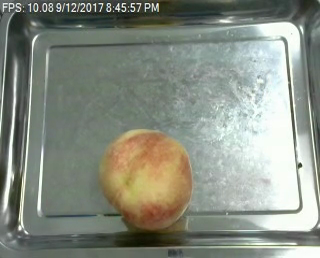Peach: (100, 127, 193, 230)
